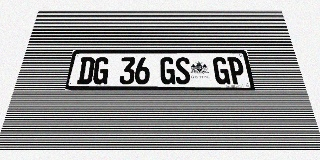3: (119, 57, 135, 84)
6: (134, 57, 150, 84)
D: (76, 57, 95, 84)
G: (212, 57, 231, 84), (92, 57, 110, 84), (160, 57, 175, 84)
P: (227, 57, 246, 84)
S: (175, 57, 191, 84)
